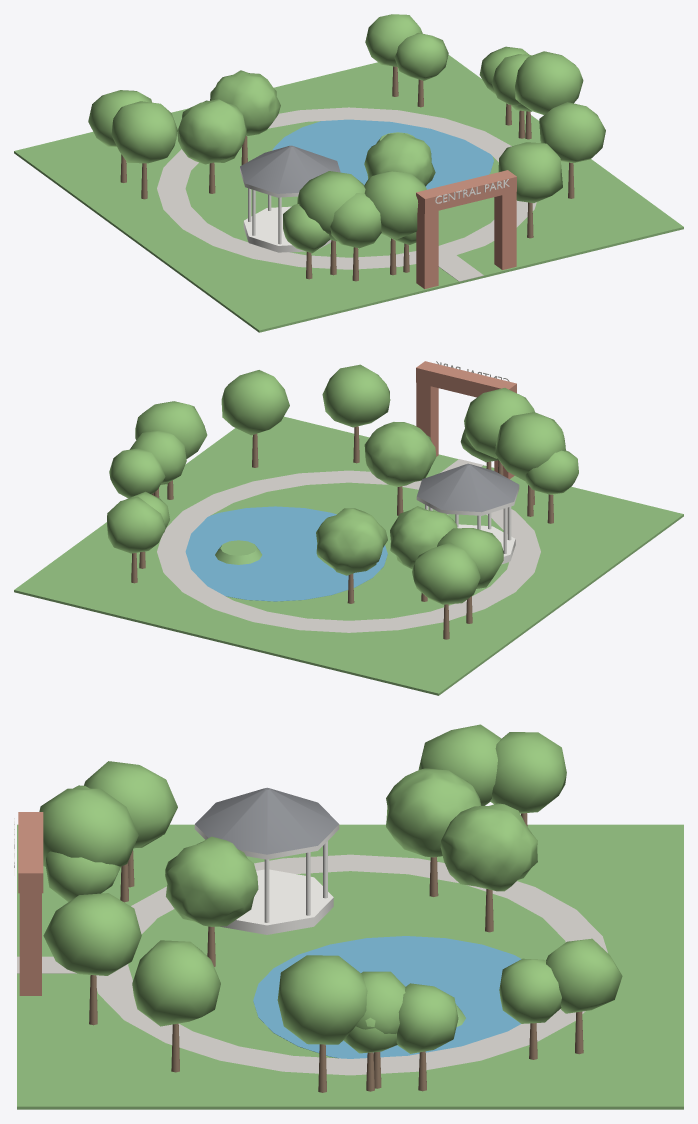
Rendered from city_park.glb.
The picture shows the model from 3 angles, top to bottom: view 1: azimuth 30°, elevation 25°; view 2: azimuth 150°, elevation 25°; view 3: azimuth 270°, elevation 25°; orthographic projection. The views are drawn at different scales.
Parts seen in each view (by area): view 1: city_park; view 2: city_park; view 3: city_park.
Boxes of the visible parts, box(x1,y1,x2,y2) form: city_park: box(14, 14, 683, 332); city_park: box(14, 361, 683, 695); city_park: box(14, 724, 683, 1109).
Bounding box in the file's own units: 24.36 × 5.63 × 24.1.
